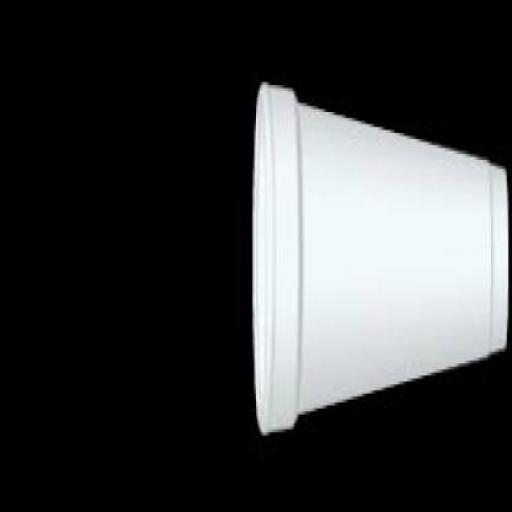paper: (251, 75, 510, 428)
